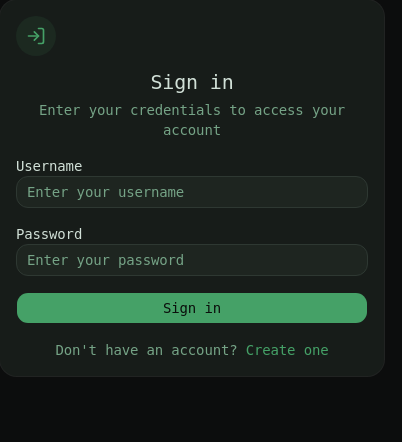
Test case: login page › shows validation errors for empty fields
Click the button "Sign in".
click(192, 308)  # box [16, 292, 368, 324]
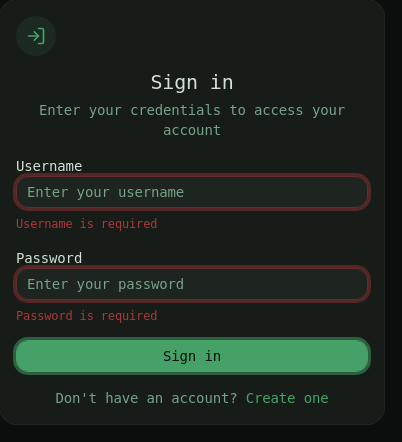
Now the text "Username is required" is shown, box [16, 217, 157, 231]
Now the text "Password is required" is shown, box [16, 309, 157, 323]
